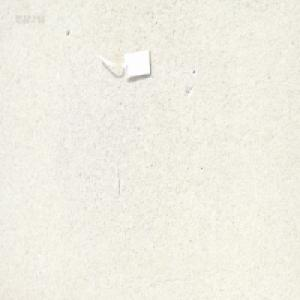LuggageTag: (99, 46, 153, 80)
